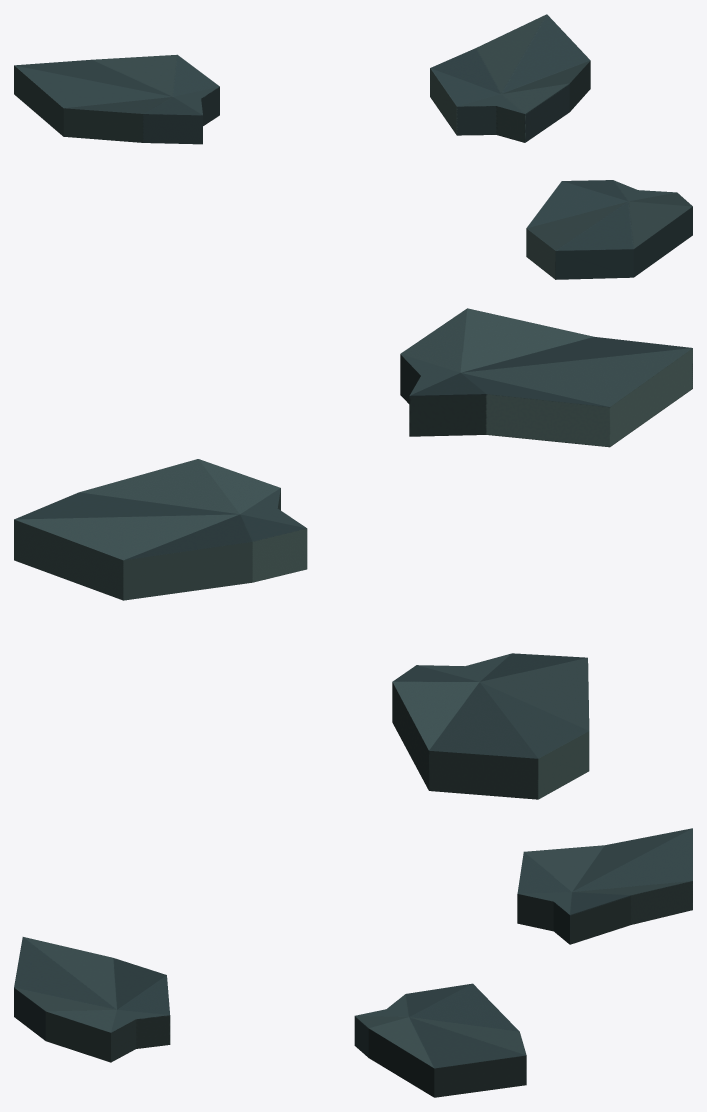
File: Feuille.obj
3 renders of one model, top to bottom at view 1: azimuth 30°, elevation 25°; view 2: azimuth 150°, elevation 25°; view 3: azimuth 270°, elevation 25°, orthographic. The views are drawn at different scales.
Visible parts, largest first — view 1: Feuille; view 2: Feuille; view 3: Feuille.
Part boxes in pixels (x1,y1,x2,y2): Feuille: [14, 14, 692, 279]; Feuille: [14, 308, 692, 799]; Feuille: [14, 828, 692, 1097].
Size of the model in its own units: 0.168 by 0.0149 by 0.2121.
Materials: 1 (1 with a texture image).
